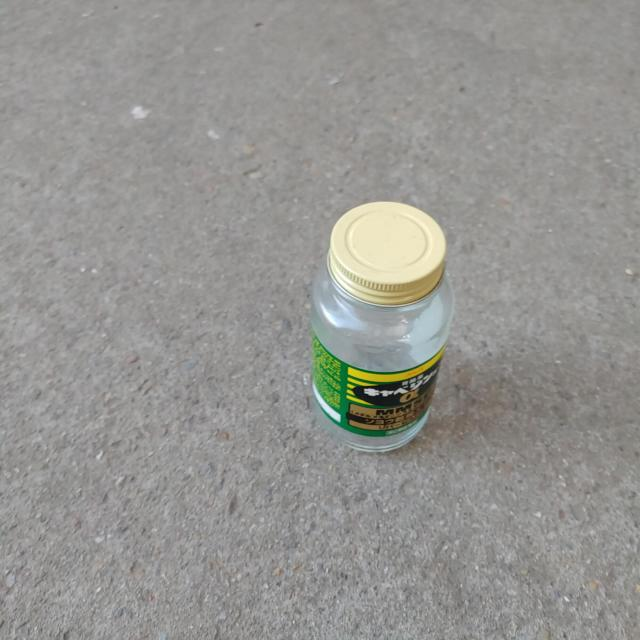glass: (312, 201, 455, 452)
